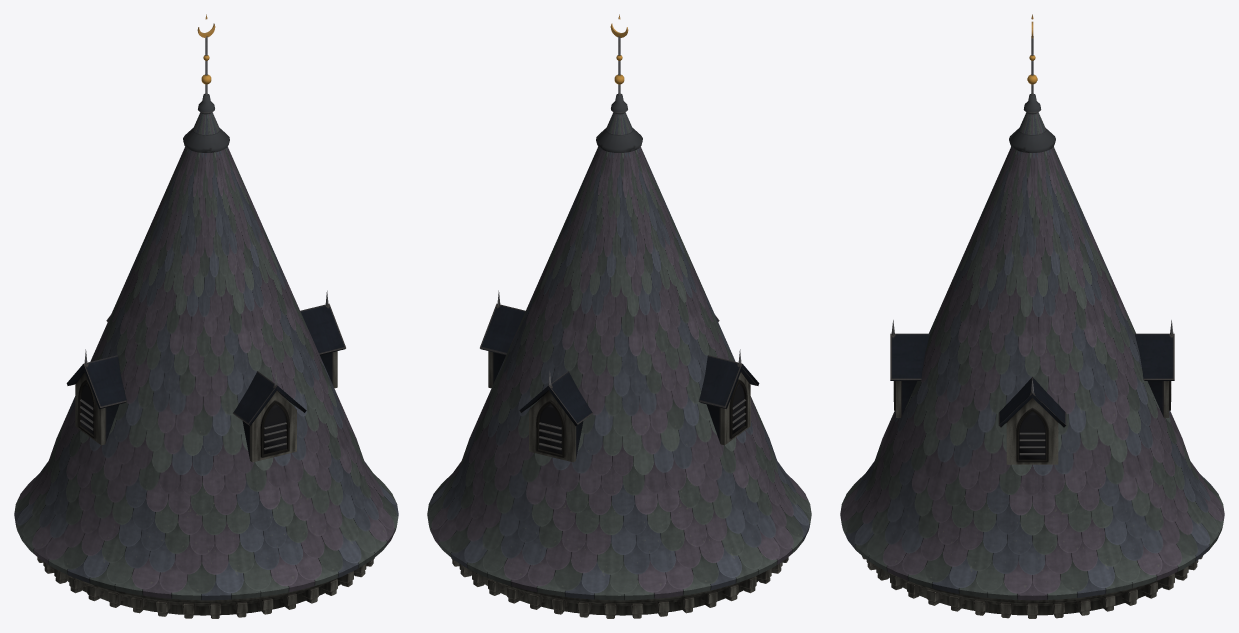
File: ConeTurretCap.fbx
3 renders of one model, left to right at view 1: azimuth 30°, elevation 25°; view 2: azimuth 150°, elevation 25°; view 3: azimuth 270°, elevation 25°, orthographic.
Visible parts, largest first — view 1: ConeTurretCap_Scale, ConeTurretCap_Main; view 2: ConeTurretCap_Scale, ConeTurretCap_Main; view 3: ConeTurretCap_Scale, ConeTurretCap_Main.
Boxes of the visible parts, x1=… form: ConeTurretCap_Scale: x1=14, y1=112, x2=398, y2=600; ConeTurretCap_Main: x1=37, y1=14, x2=374, y2=618; ConeTurretCap_Scale: x1=427, y1=112, x2=811, y2=600; ConeTurretCap_Main: x1=451, y1=14, x2=788, y2=618; ConeTurretCap_Scale: x1=840, y1=112, x2=1224, y2=600; ConeTurretCap_Main: x1=862, y1=14, x2=1202, y2=618.
Size of the model in its own units: 966 by 1479 by 966.
